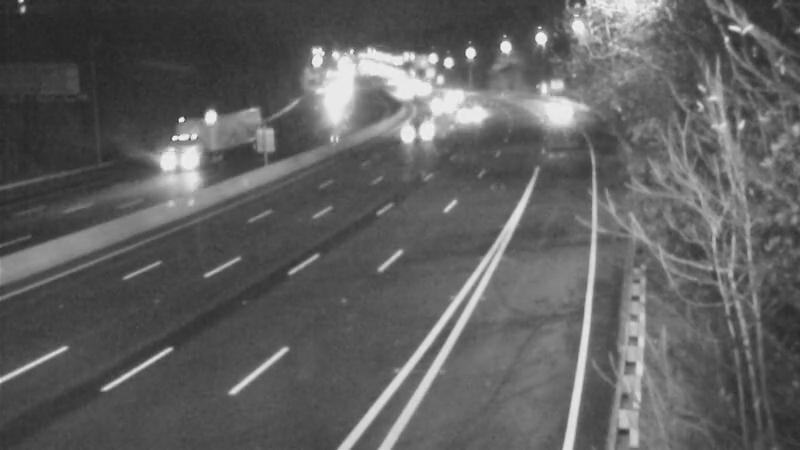vehicle: (139, 126, 219, 206), (425, 68, 475, 118), (529, 90, 579, 140), (415, 79, 465, 129), (441, 85, 491, 135), (395, 106, 445, 156)
